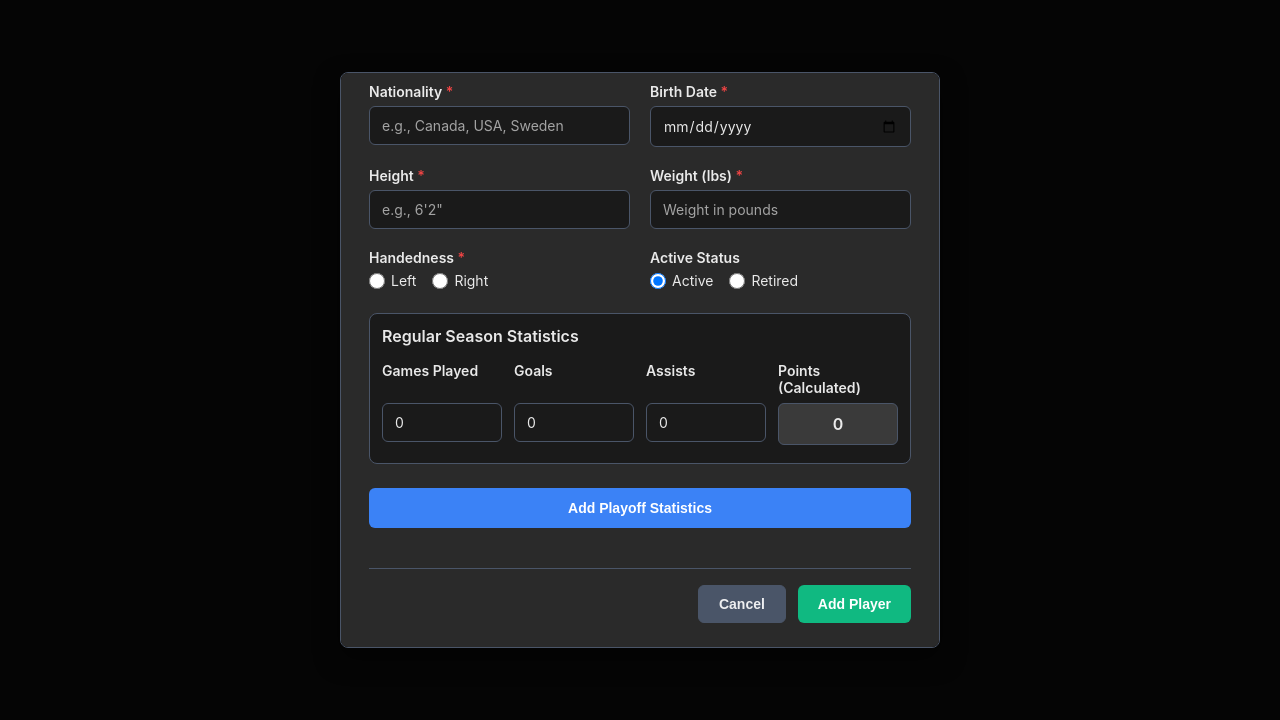
Test case: PlayerFormModal › Playoff Fields Toggle › should show playoff fields when toggle is clicked
(page scrolled)
Click the button "Add Playoff Statistics" at (640, 508), box [369, 488, 911, 528]
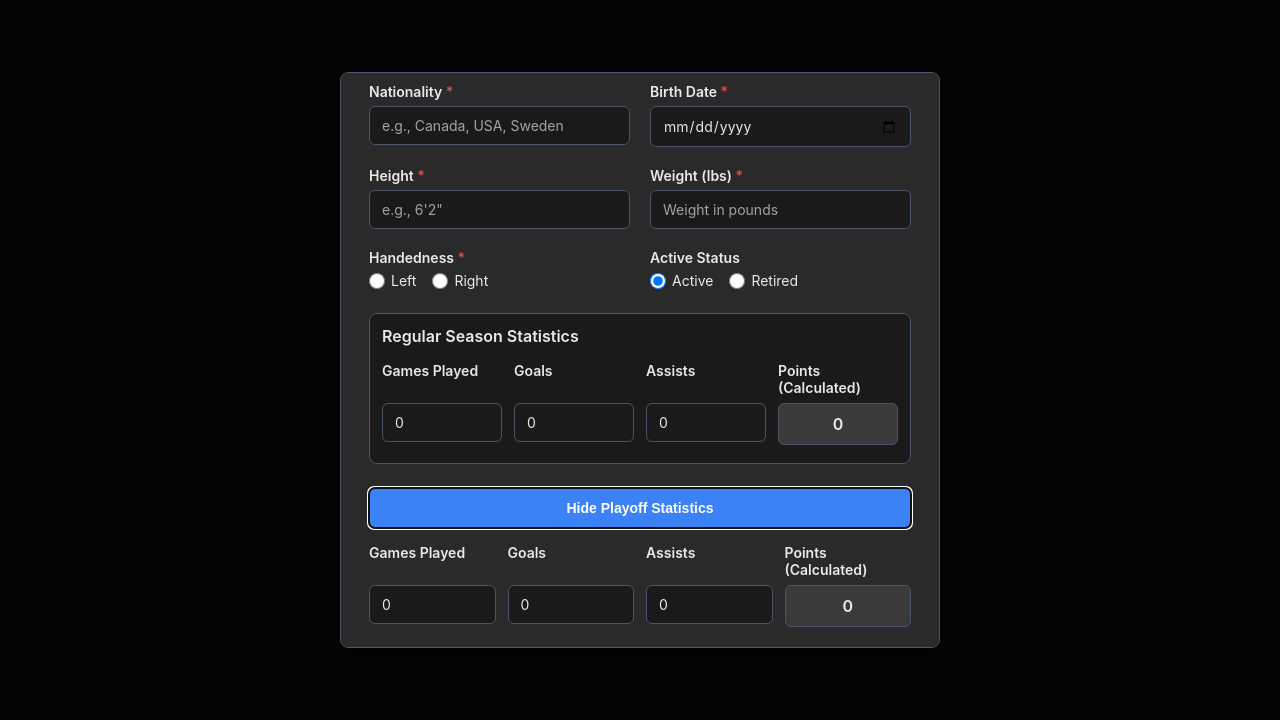
Expected: the button "Hide Playoff Statistics" is shown, [369, 488, 911, 528]
